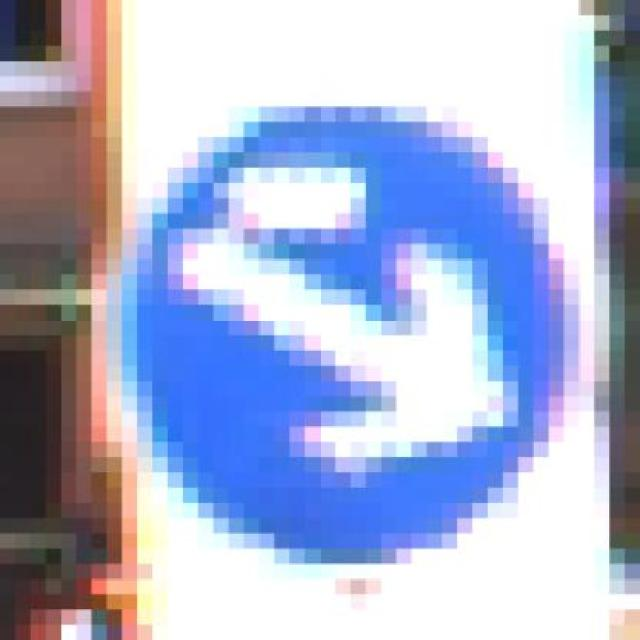Keep-Right: (107, 61, 610, 579)
